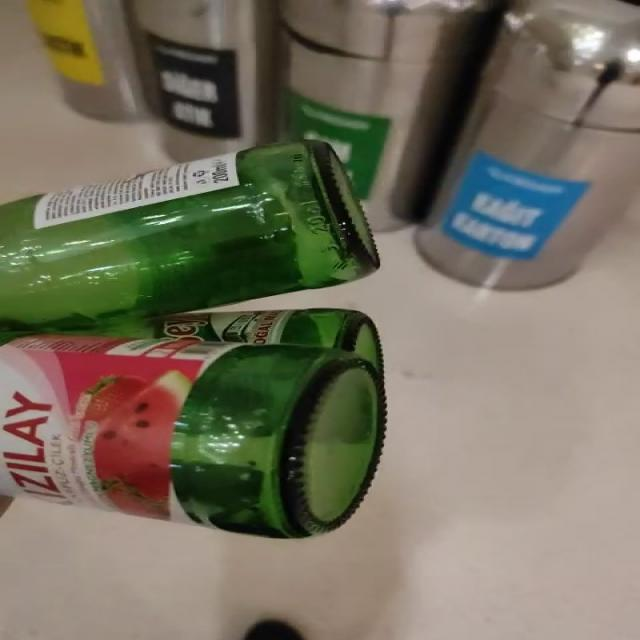glass: (1, 140, 387, 539)
